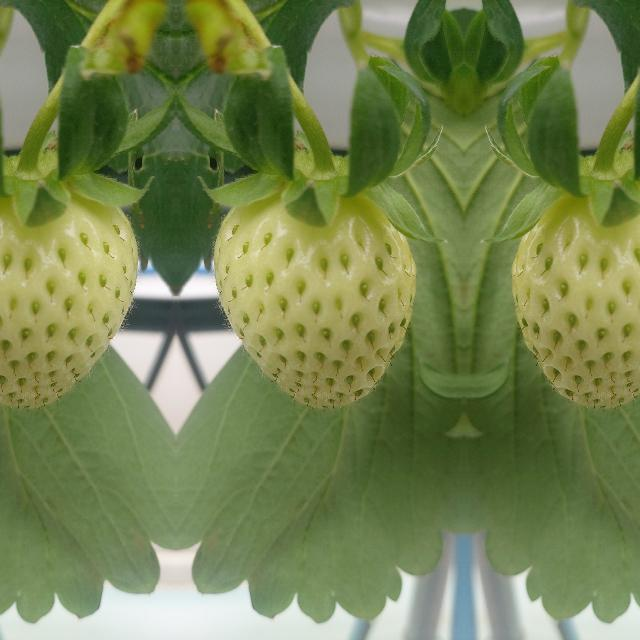Health_25: (212, 192, 416, 408), (0, 192, 137, 408), (510, 192, 640, 408)
